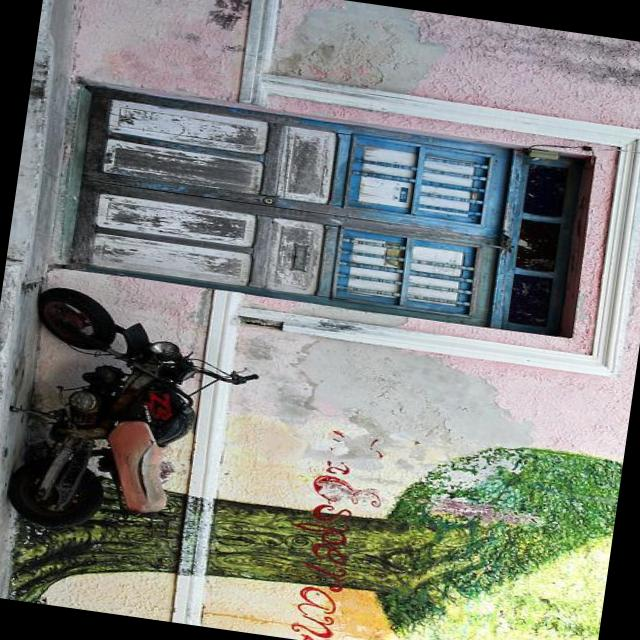motorbike: (0, 279, 255, 556)
